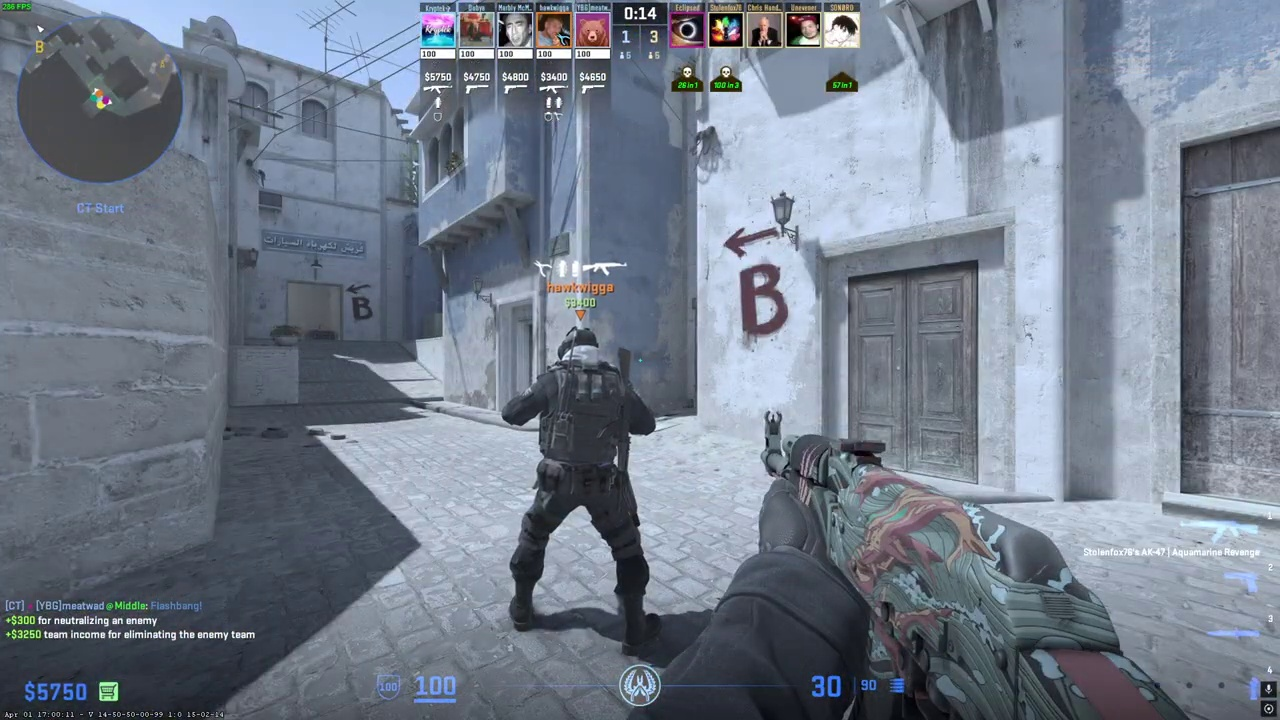CT: (507, 328, 656, 642)
